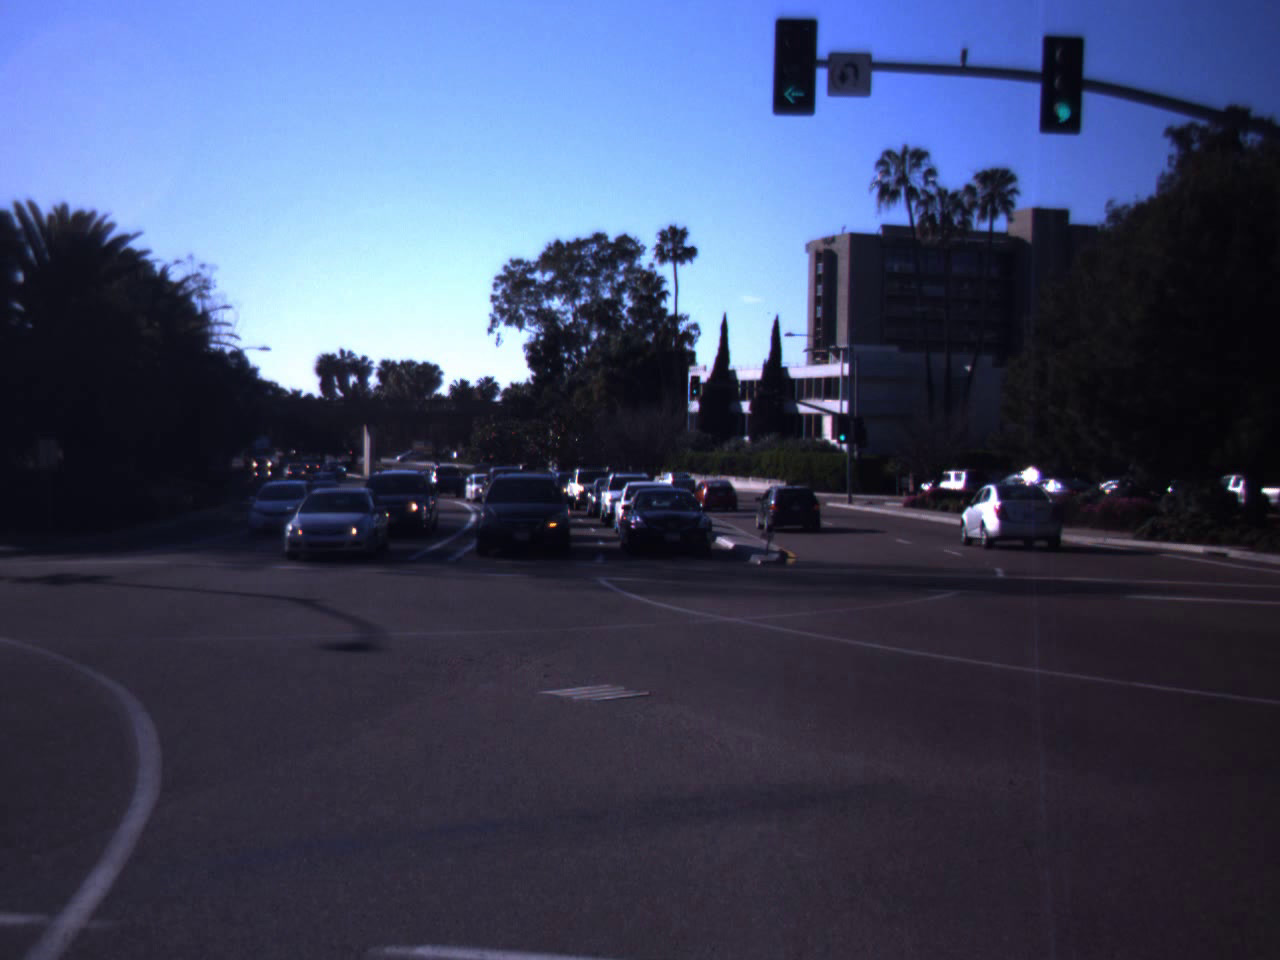go: (758, 8, 827, 113), (1046, 41, 1082, 131)
